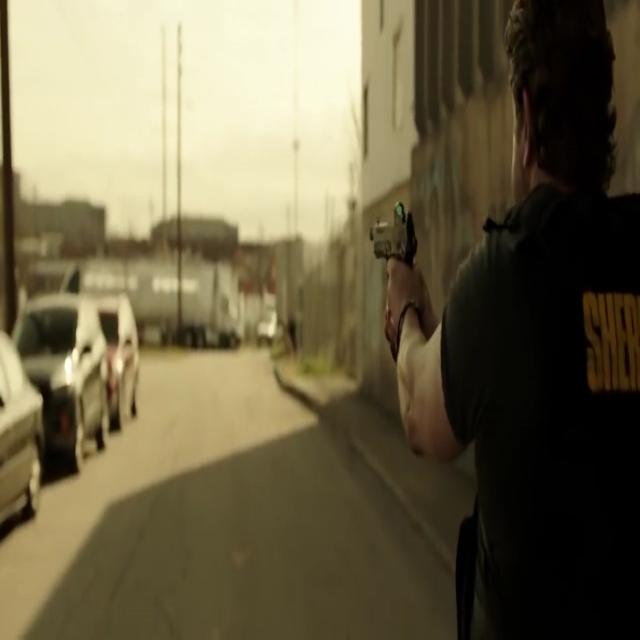Weapon: (366, 221, 426, 308)
